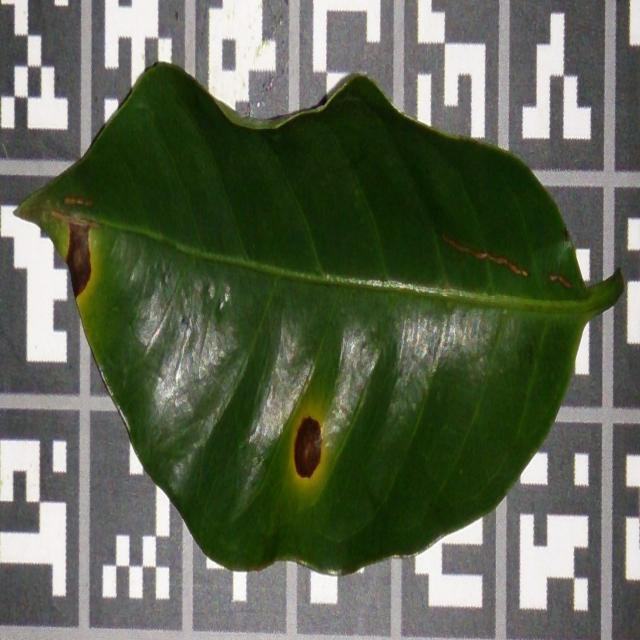Enfermedad-Mancha-de-hierro: (14, 63, 626, 577)
